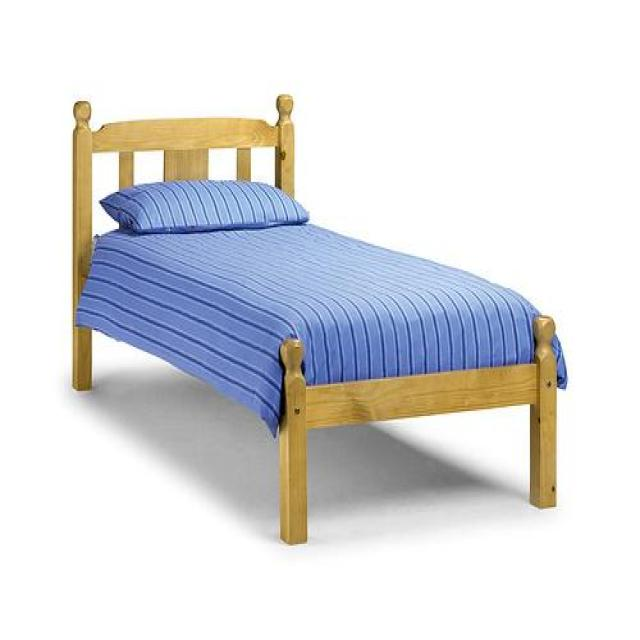bed: (70, 93, 567, 544)
